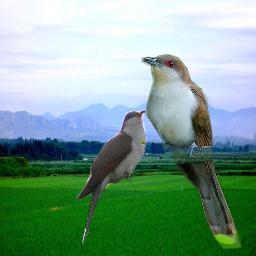Cuckoo: (141, 54, 241, 249), (76, 110, 147, 246)
